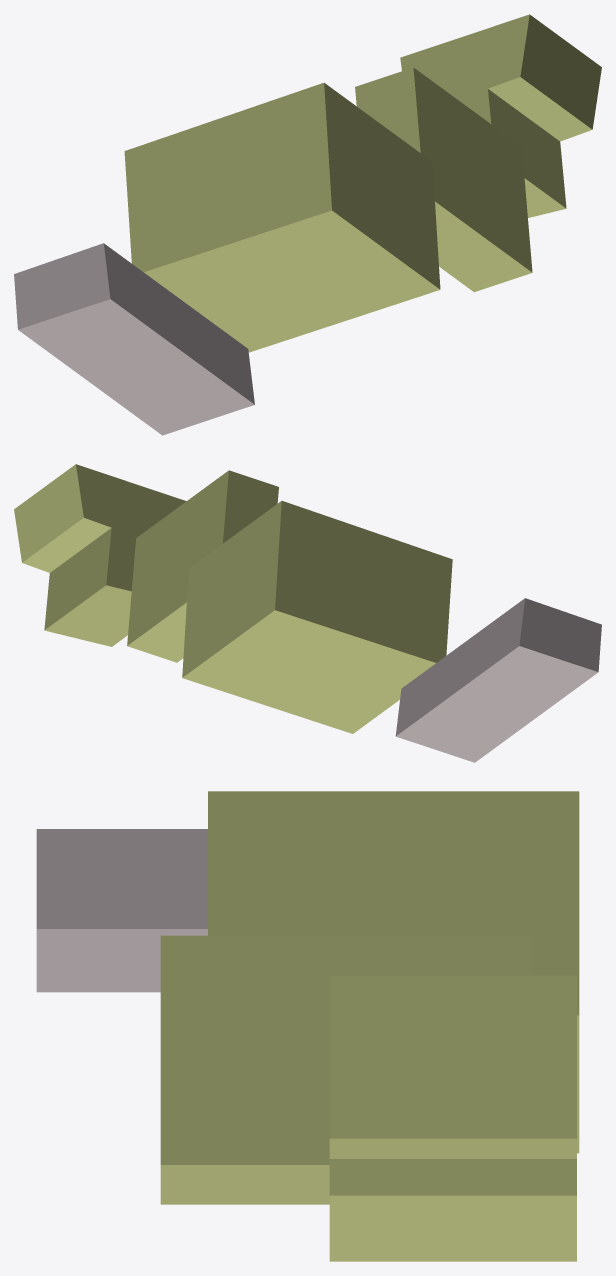
The picture shows the model from 3 angles, top to bottom: view 1: azimuth 30°, elevation 25°; view 2: azimuth 150°, elevation 25°; view 3: azimuth 270°, elevation 25°; orthographic projection. The views are drawn at different scales.
Parts seen in each view (by area): view 1: 0_1_1_3_3_1_2_0_0; view 2: 0_1_1_3_3_1_2_0_0; view 3: 0_1_1_3_3_1_2_0_0.
Part boxes in pixels (<box>): 0_1_1_3_3_1_2_0_0: <box>14,14,601,435</box>; 0_1_1_3_3_1_2_0_0: <box>14,464,601,762</box>; 0_1_1_3_3_1_2_0_0: <box>36,791,579,1261</box>.
Bounding box in the file's own units: 25.36 × 8.14 × 13.15.
